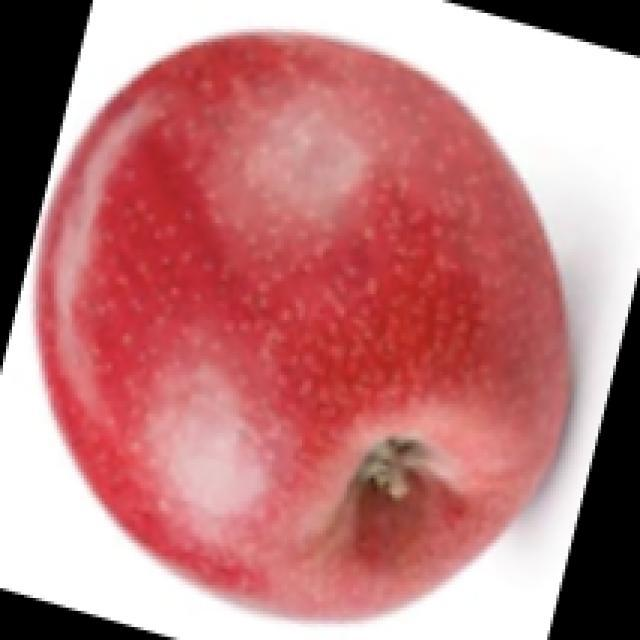Fresh Apple: (55, 33, 582, 615)
